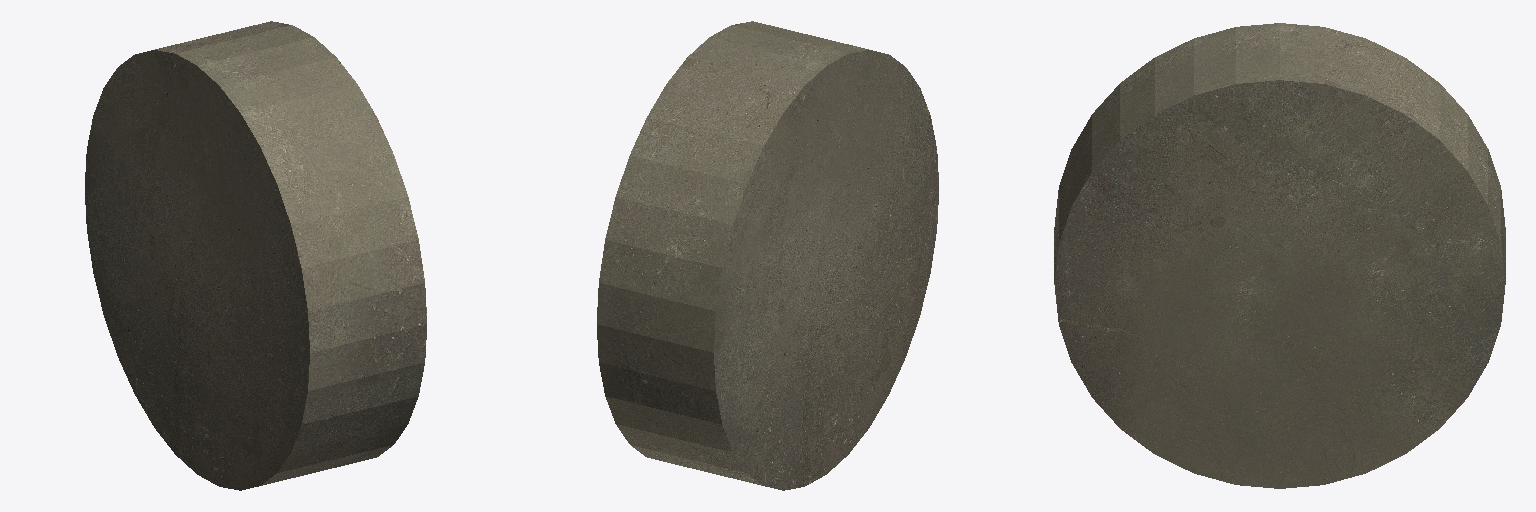
3 renders of one model, left to right at view 1: azimuth 30°, elevation 25°; view 2: azimuth 150°, elevation 25°; view 3: azimuth 270°, elevation 25°, orthographic.
Visible parts, largest first — view 1: Cylinder; view 2: Cylinder; view 3: Cylinder.
Part boxes in pixels (bbox=[...]): Cylinder: bbox=[85, 21, 426, 490]; Cylinder: bbox=[597, 21, 938, 490]; Cylinder: bbox=[1054, 23, 1505, 488].
Size of the model in its own units: 0.3 by 1 by 1.
1 materials, 1 textured.